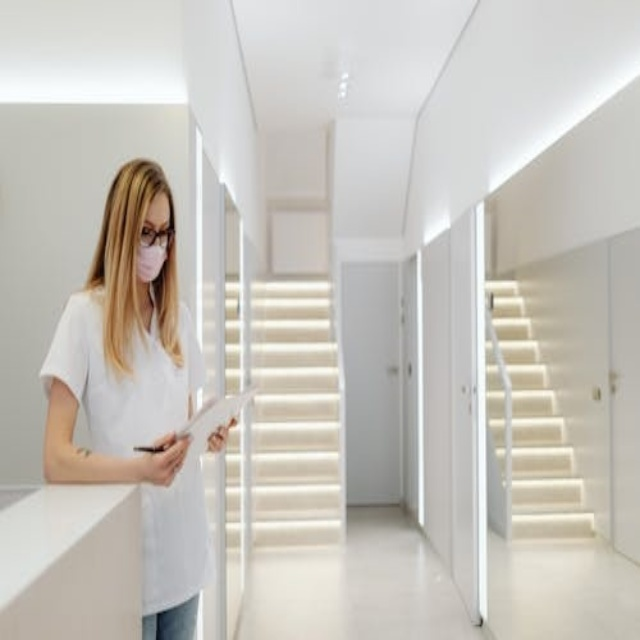Gafas: (139, 225, 173, 248)
Mascara: (135, 237, 168, 282)
Sin_guantes: (137, 417, 198, 488), (207, 407, 252, 463)
